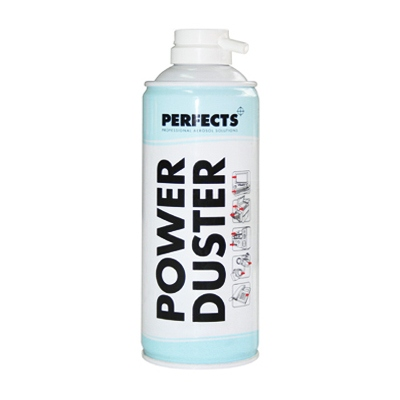Aerosol_cans: (137, 27, 263, 371)
